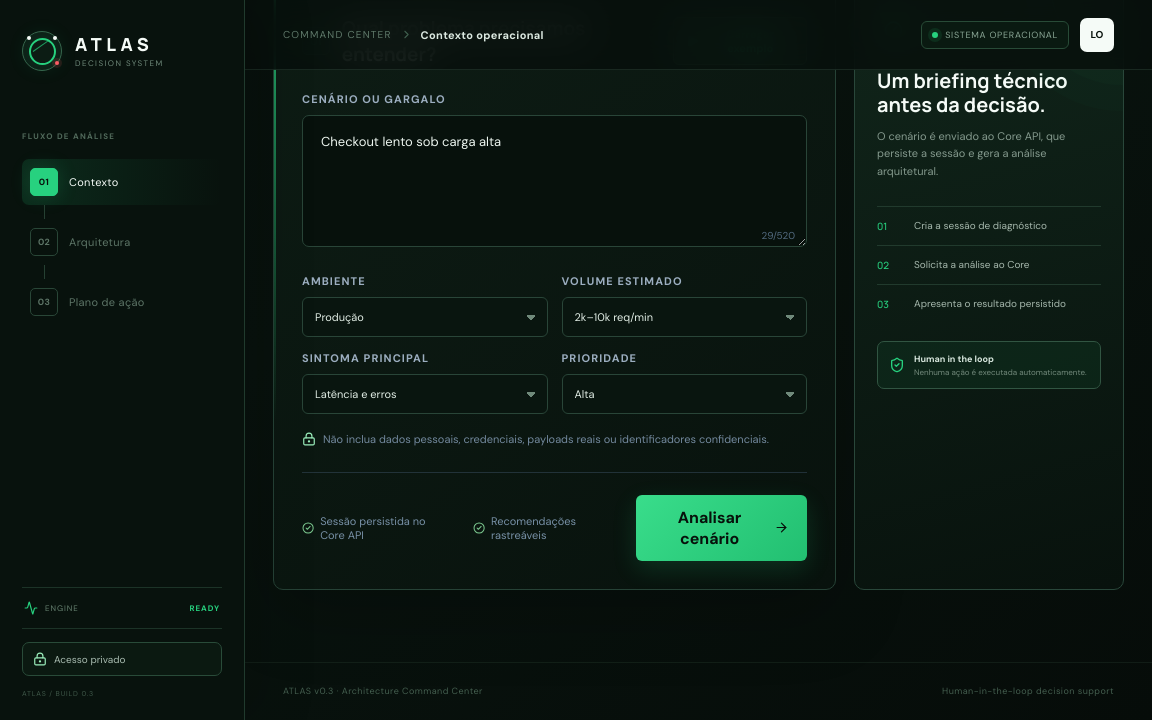
it: api mode (integrated with atlas-core-api) › reuses the same session and idempotency key when a previous analysis attempt failed
(page scrolled)
Click the button "Analisar cenário" at (722, 528), box [636,495,807,561]
(page scrolled)
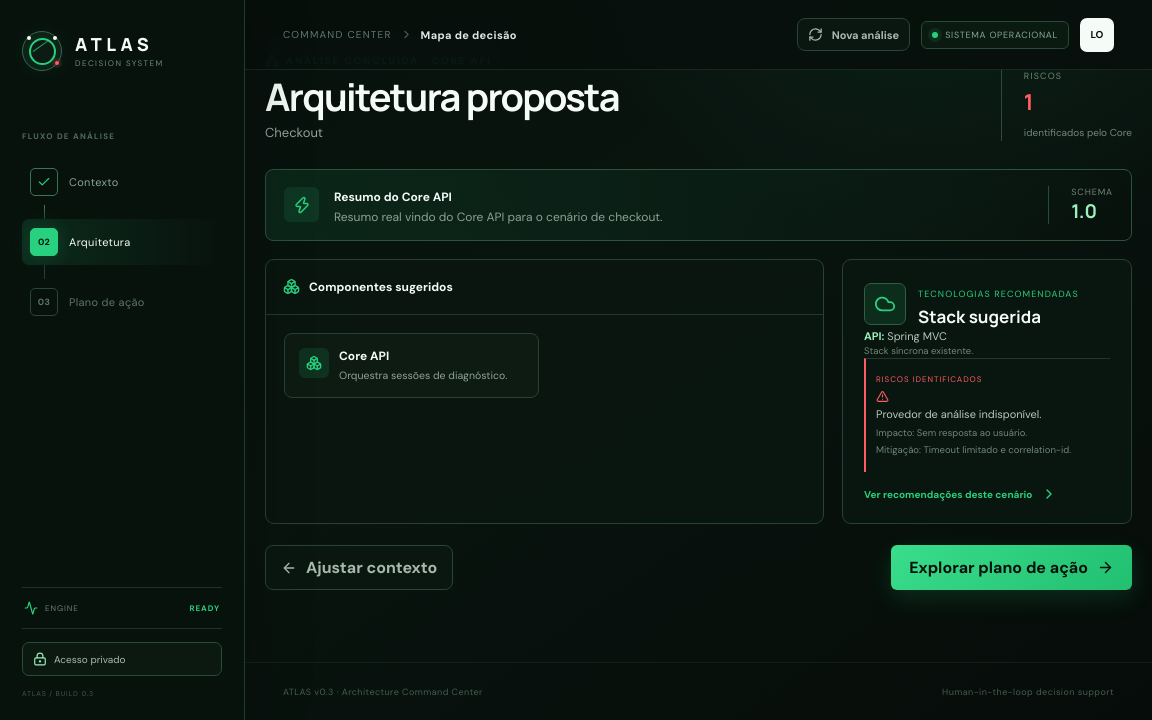
Now the heading "Arquitetura proposta" is shown, box [265,77,619,116]
